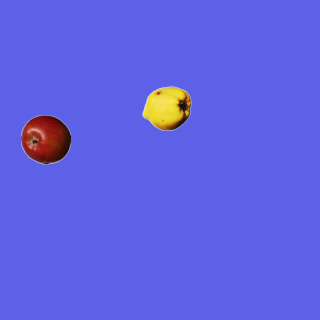Apple Braeburn: (20, 114, 70, 164)
Quince: (141, 83, 191, 133)
